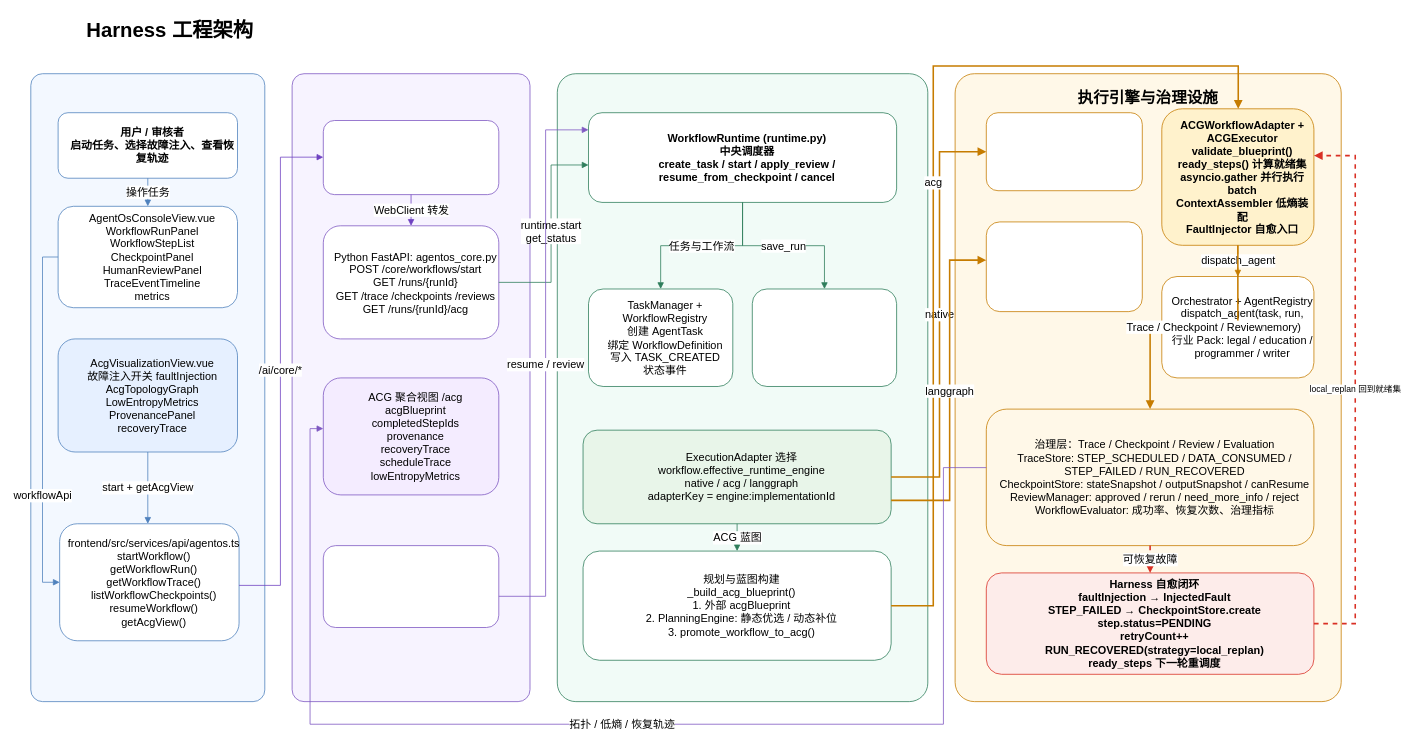
This 1414x744 diagram has some shape labels left out. The shapes that lost their labels are listed below. From the top down, each one's box as (x1, y1, x2, y2) in pixels, then its label:
(323, 120, 499, 195): Java AgentOsGatewayController /ai/core/* 转发 统一认证、超时和错误包装
(986, 112, 1142, 191): NativeWorkflowAdapter 线性 YAML 工作流 _start_native() _run_until_blocked()
(986, 221, 1142, 312): LangGraphAdapter 应用层 StateGraph 桥接 Projector 投影回 WorkflowRun Trace Checkpoint
(752, 288, 897, 386): WorkflowStore Memory / SQLite 保存 WorkflowRun steps trace checkpoints provenance
(30, 73, 265, 702): 用户与前端展示层
(291, 73, 530, 702): 网关与 API 入口
(557, 73, 928, 702): AgentOS Core Harness 内核
(323, 545, 499, 628): 恢复与审核 API POST /runs/{runId}/resume POST /runs/{runId}/reviews GET /metrics
